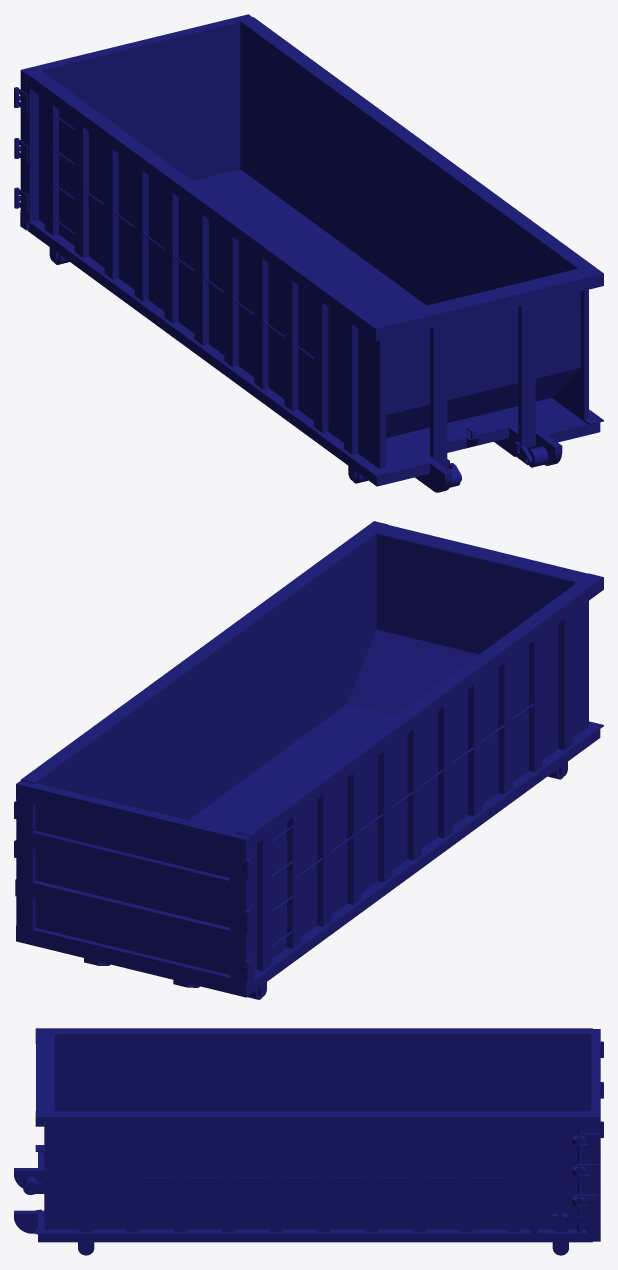
The model's file is 30YardRecDumpsterBlue.obj.
The picture shows the model from 3 angles, top to bottom: view 1: azimuth 30°, elevation 25°; view 2: azimuth 150°, elevation 25°; view 3: azimuth 270°, elevation 25°; orthographic projection. The views are drawn at different scales.
Visible parts, largest first — view 1: Object.2; view 2: Object.2; view 3: Object.2.
Boxes of the visible parts, x1,y1,x2,y2 form: Object.2: [14, 14, 603, 492]; Object.2: [14, 521, 603, 999]; Object.2: [14, 1028, 603, 1255].
Bounding box in the file's own units: 45.32 × 32.29 × 121.
